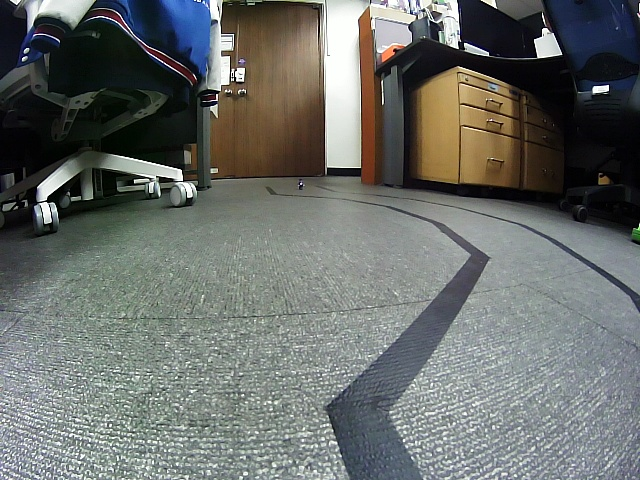person: (297, 178, 306, 190)
